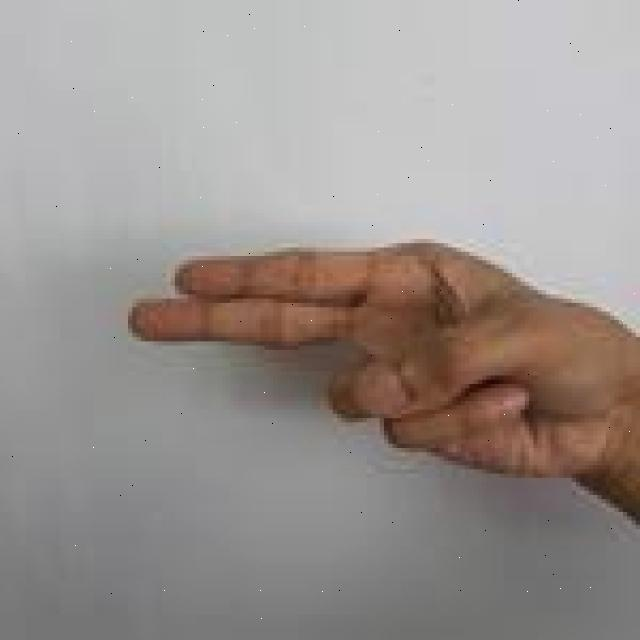H: (128, 237, 640, 536), (126, 236, 640, 526)
